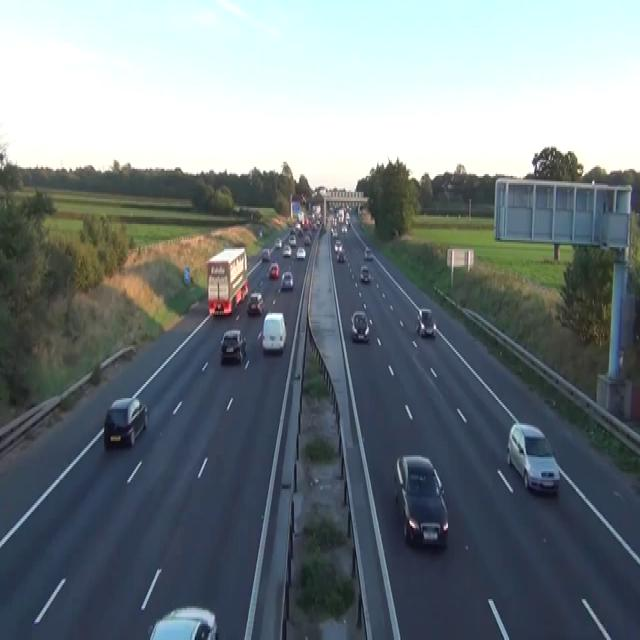Car: (393, 453, 448, 548), (506, 422, 560, 494), (148, 604, 218, 638), (103, 396, 148, 448), (261, 311, 286, 352), (220, 329, 246, 363), (350, 309, 369, 342), (416, 308, 435, 336), (246, 292, 263, 314), (280, 270, 293, 290), (359, 263, 370, 283), (269, 261, 279, 279), (239, 281, 248, 300), (296, 247, 306, 260), (261, 247, 270, 261), (364, 246, 372, 260), (334, 238, 342, 252), (282, 244, 291, 256), (274, 236, 282, 249), (337, 249, 345, 261), (288, 233, 296, 245), (304, 235, 311, 245), (331, 226, 338, 236), (294, 222, 301, 231), (341, 224, 347, 233), (297, 228, 303, 236), (321, 224, 326, 233), (329, 204, 334, 213), (345, 217, 350, 226), (330, 226, 334, 234), (360, 222, 364, 230), (259, 228, 262, 236)
Truck: (206, 246, 248, 316)
